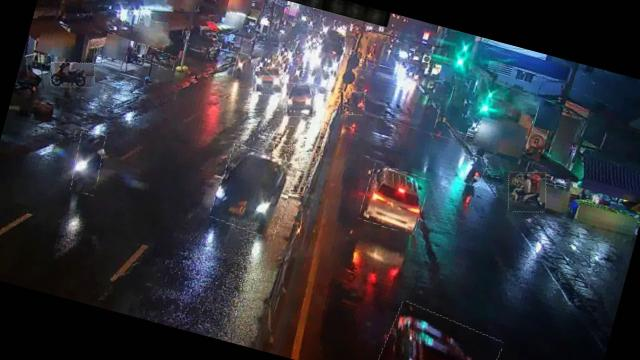Bike: (67, 130, 108, 196), (501, 166, 552, 218), (46, 54, 98, 94), (336, 88, 366, 118), (140, 46, 177, 70), (463, 154, 488, 188), (232, 52, 248, 80), (434, 106, 450, 131)
Car: (208, 143, 298, 239), (373, 301, 504, 360), (358, 164, 430, 236), (280, 79, 322, 122), (248, 62, 288, 98)
